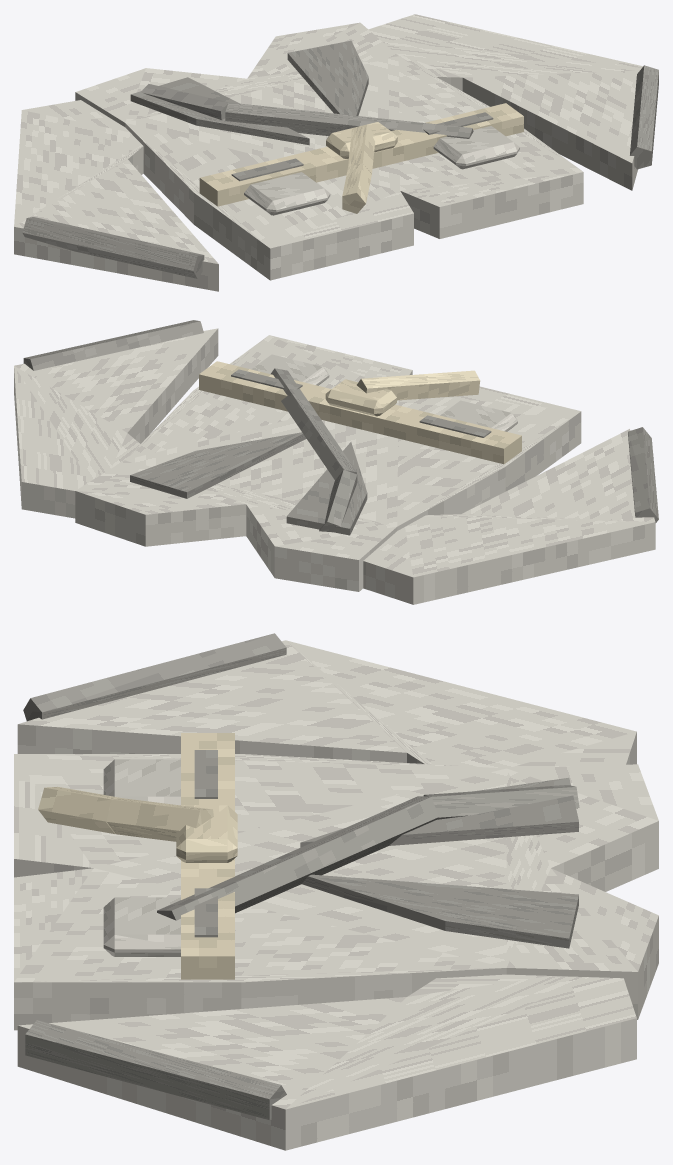
File: judo_gi.glb
3 renders of one model, top to bottom at view 1: azimuth 30°, elevation 25°; view 2: azimuth 150°, elevation 25°; view 3: azimuth 270°, elevation 25°, orthographic. The views are drawn at different scales.
Parts seen in each view (by area): view 1: block_coat body, block_sleeve (×2), block_lapel (×2), block_cuff 0 (×2), block_tied sash, block_patch pocket (×2), block_crossed lapel 1, block_crossed lapel 0, block_sash knot, block_sash ends 1, block_pocket welt (×2), block_sash ends 0; view 2: block_coat body, block_sleeve (×2), block_tied sash, block_lapel (×2), block_cuff 0 (×2), block_crossed lapel 1, block_patch pocket (×2), block_sash knot, block_sash ends 0, block_sash ends 1, block_crossed lapel 0, block_pocket welt (×2); view 3: block_coat body, block_sleeve (×2), block_lapel (×2), block_cuff 0 (×2), block_crossed lapel 1, block_tied sash, block_patch pocket (×2), block_sash ends 0, block_crossed lapel 0, block_sash knot, block_sash ends 1, block_pocket welt (×2).
Boxes of the visible parts, x1,y1,x2,y2 form: block_coat body: (75, 22, 583, 280); block_sleeve (×2): (14, 14, 657, 291); block_lapel (×2): (130, 40, 368, 145); block_cuff 0 (×2): (22, 65, 658, 278); block_tied sash: (199, 103, 523, 206); block_patch pocket (×2): (244, 126, 519, 215); block_crossed lapel 1: (225, 102, 473, 138); block_crossed lapel 0: (141, 84, 228, 119); block_sash knot: (326, 122, 397, 158); block_sash ends 1: (342, 163, 371, 213); block_pocket welt (×2): (231, 112, 493, 181); block_sash ends 0: (348, 124, 374, 173); block_coat body: (75, 335, 581, 591); block_sleeve (×2): (14, 328, 655, 604); block_tied sash: (199, 361, 521, 464); block_lapel (×2): (130, 432, 367, 535); block_cuff 0 (×2): (23, 320, 658, 522); block_crossed lapel 1: (271, 368, 356, 480); block_patch pocket (×2): (251, 354, 517, 431); block_sash knot: (325, 379, 396, 416); block_sash ends 0: (357, 374, 429, 400); block_sash ends 1: (424, 370, 480, 398); block_crossed lapel 0: (319, 470, 357, 532); block_pocket welt (×2): (231, 369, 491, 437); block_coat body: (14, 754, 658, 1030); block_sleeve (×2): (17, 640, 636, 1150); block_lapel (×2): (300, 777, 578, 948); block_cuff 0 (×2): (23, 633, 286, 1120); block_crossed lapel 1: (157, 796, 438, 920); block_tied sash: (181, 733, 234, 979); block_patch pocket (×2): (103, 759, 180, 956); block_sash ends 0: (106, 798, 213, 841); block_crossed lapel 0: (423, 785, 579, 819); block_sash knot: (176, 805, 237, 862); block_sash ends 1: (38, 786, 123, 833); block_pocket welt (×2): (194, 750, 217, 937).
Size of the model in its own units: 0.5437 by 0.0578 by 0.3158.
1 material, 1 textured.
